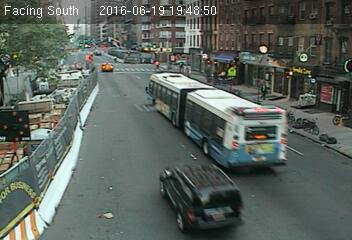neg: (184, 44, 205, 72), (135, 33, 154, 58), (98, 56, 114, 78), (244, 144, 258, 162), (53, 63, 65, 80)
pos: (258, 82, 270, 98)
